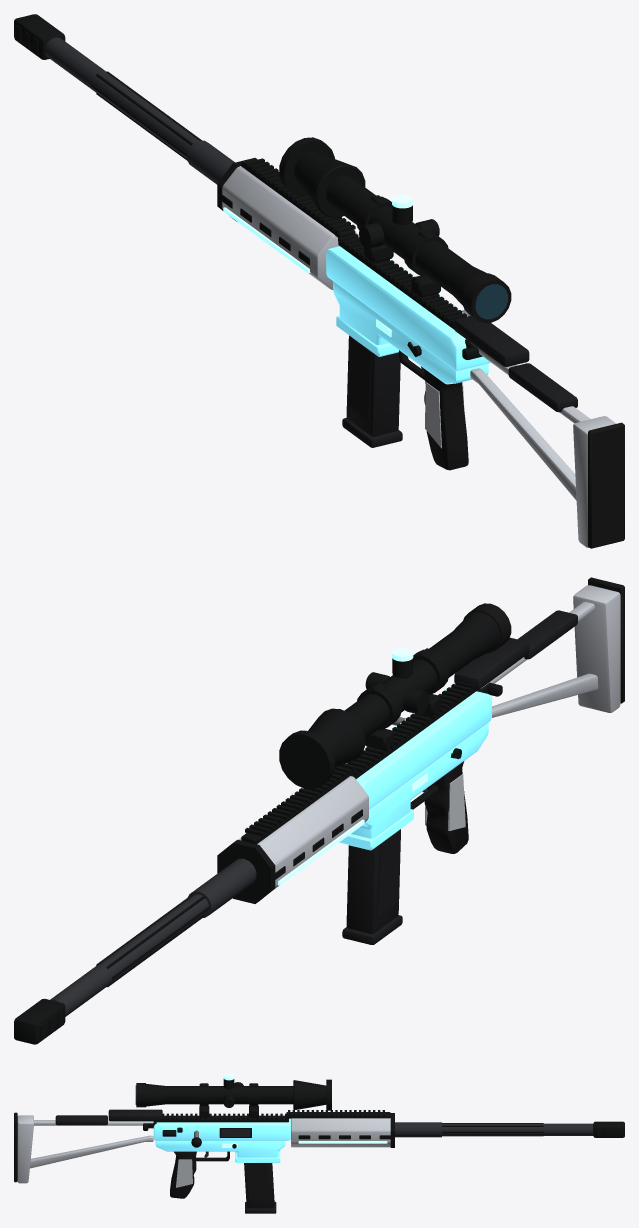
Rendered from gun_48.glb.
3 views of the same model, one above another, from view 1: azimuth 30°, elevation 25°; view 2: azimuth 150°, elevation 25°; view 3: azimuth 270°, elevation 25° (orthographic). The views are drawn at different scales.
Visible parts, largest first — view 1: gun_48; view 2: gun_48; view 3: gun_48.
Part boxes in pixels (x1,y1,x2,y2): gun_48: (14, 14, 624, 548); gun_48: (14, 577, 624, 1044); gun_48: (14, 1073, 624, 1213).
Size of the model in its own units: 0.1254 by 0.3295 by 1.36.
